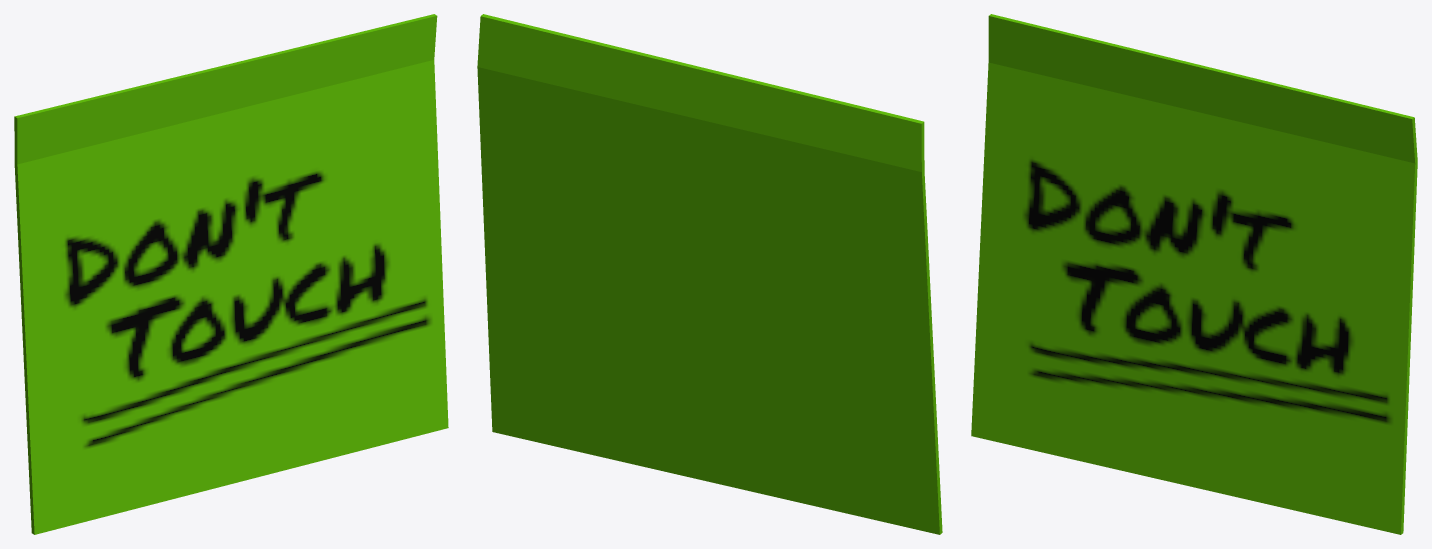
Rendered from StickyNotesV2Green_T.fbx.
3 renders of one model, left to right at view 1: azimuth 30°, elevation 25°; view 2: azimuth 150°, elevation 25°; view 3: azimuth 330°, elevation 25°, orthographic. The views are drawn at different scales.
Visible parts, largest first — view 1: StickyNotesV2Green_T; view 2: StickyNotesV2Green_T; view 3: StickyNotesV2Green_T.
Boxes of the visible parts, x1,y1,x2,y2 form: StickyNotesV2Green_T: (14,14,448,534); StickyNotesV2Green_T: (477,14,942,534); StickyNotesV2Green_T: (971,14,1417,534).
Size of the model in its own units: 5.41 by 4.97 by 0.5116.
